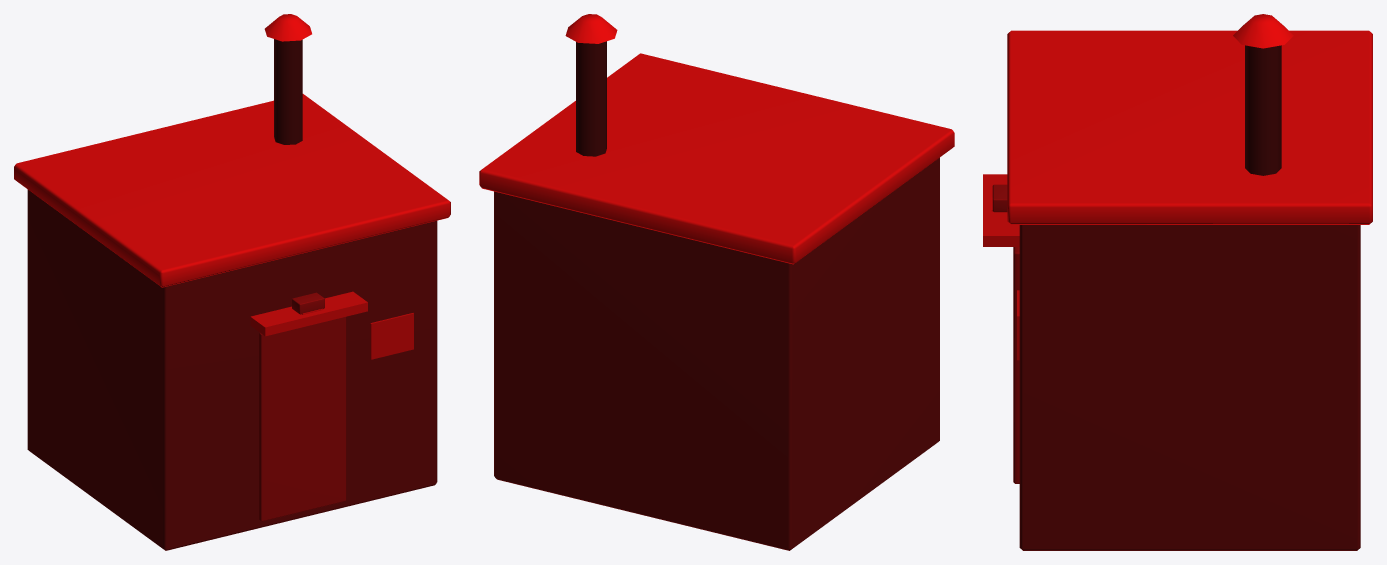
File: roof_stairhouse.glb
The picture shows the model from 3 angles, left to right: view 1: azimuth 30°, elevation 25°; view 2: azimuth 150°, elevation 25°; view 3: azimuth 270°, elevation 25°; orthographic projection. The views are drawn at different scales.
Parts seen in each view (by area): view 1: roof_stairhouse; view 2: roof_stairhouse; view 3: roof_stairhouse.
Part boxes in pixels (x1,y1,x2,y2): roof_stairhouse: [14, 14, 450, 550]; roof_stairhouse: [479, 14, 954, 550]; roof_stairhouse: [983, 14, 1372, 550].
Bounding box in the file's own units: 3.4 × 4.55 × 3.2.
